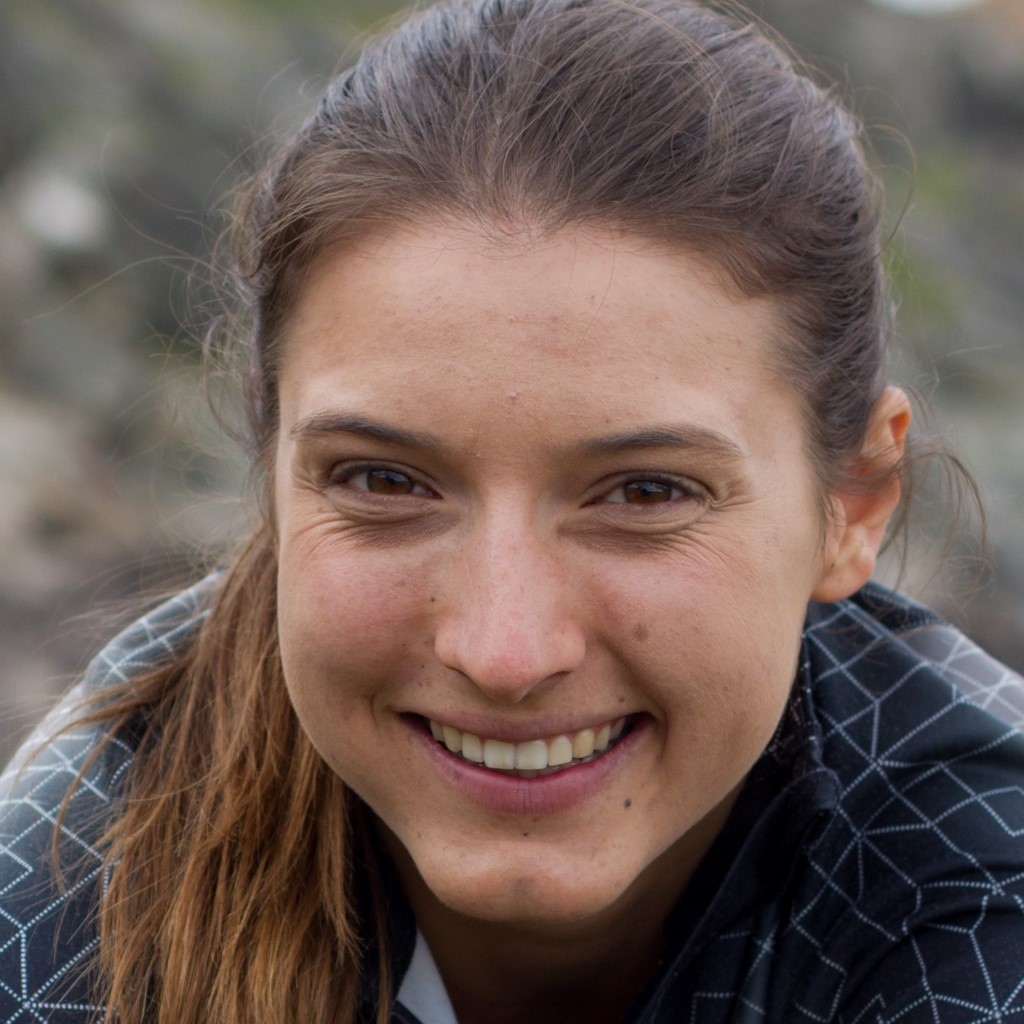sin_mascara: (256, 82, 907, 934)
